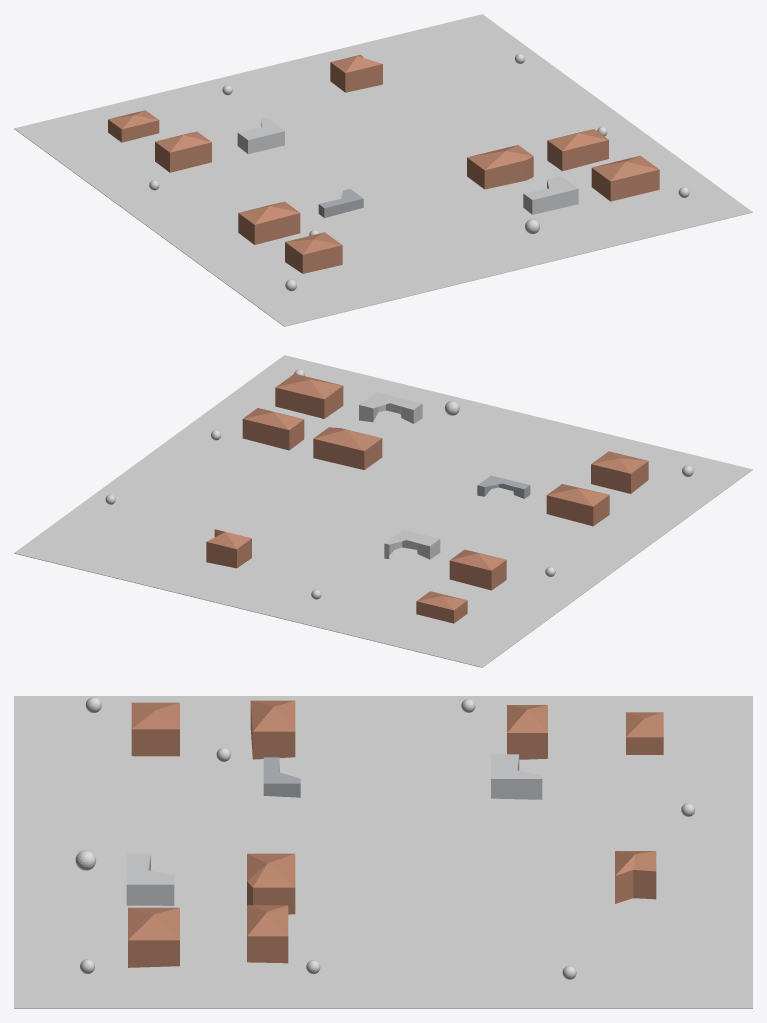
The picture shows the model from 3 angles, top to bottom: view 1: azimuth 30°, elevation 25°; view 2: azimuth 150°, elevation 25°; view 3: azimuth 270°, elevation 25°; orthographic projection. The views are drawn at different scales.
Parts seen in each view (by area): view 1: Ground_Base, BLD-010, BLD-007, BLD-006, BLD-008, BLD-009, BLD-003, BLD-002, BLD-011, BLD-001, BLD-004, BLD-005; view 2: Ground_Base, BLD-010, BLD-007, BLD-006, BLD-008, BLD-009, BLD-003, BLD-002, BLD-011, BLD-001, BLD-004, BLD-005; view 3: Ground_Base, BLD-010, BLD-009, BLD-007, BLD-006, BLD-008, BLD-003, BLD-011, BLD-002, BLD-004, BLD-001, BLD-005.
Boxes of the visible parts, x1,y1,x2,y2 form: Ground_Base: [14, 14, 752, 326]; BLD-010: [591, 155, 659, 201]; BLD-007: [467, 145, 533, 189]; BLD-006: [238, 201, 300, 244]; BLD-008: [547, 129, 608, 171]; BLD-009: [285, 232, 342, 273]; BLD-003: [155, 131, 211, 172]; BLD-002: [330, 54, 382, 92]; BLD-011: [523, 176, 578, 214]; BLD-001: [108, 110, 159, 142]; BLD-004: [237, 117, 284, 153]; BLD-005: [318, 189, 363, 217]; Ground_Base: [14, 355, 752, 667]; BLD-010: [275, 373, 343, 418]; BLD-007: [313, 427, 382, 469]; BLD-006: [546, 484, 609, 526]; BLD-008: [242, 408, 304, 450]; BLD-009: [591, 451, 648, 493]; BLD-003: [449, 549, 506, 590]; BLD-002: [206, 529, 251, 568]; BLD-011: [359, 392, 422, 423]; BLD-001: [416, 591, 467, 623]; BLD-004: [384, 530, 440, 559]; BLD-005: [477, 475, 530, 498]; Ground_Base: [14, 696, 752, 1008]; BLD-010: [128, 907, 179, 967]; BLD-009: [131, 702, 179, 756]; BLD-007: [247, 853, 295, 914]; BLD-006: [250, 700, 295, 759]; BLD-008: [247, 905, 288, 963]; BLD-003: [507, 705, 547, 759]; BLD-011: [126, 854, 174, 905]; BLD-002: [615, 851, 656, 903]; BLD-004: [491, 754, 542, 799]; BLD-001: [626, 712, 663, 754]; BLD-005: [263, 757, 300, 797].
Bounding box in the file's own units: 410 × 27.61 × 410.
